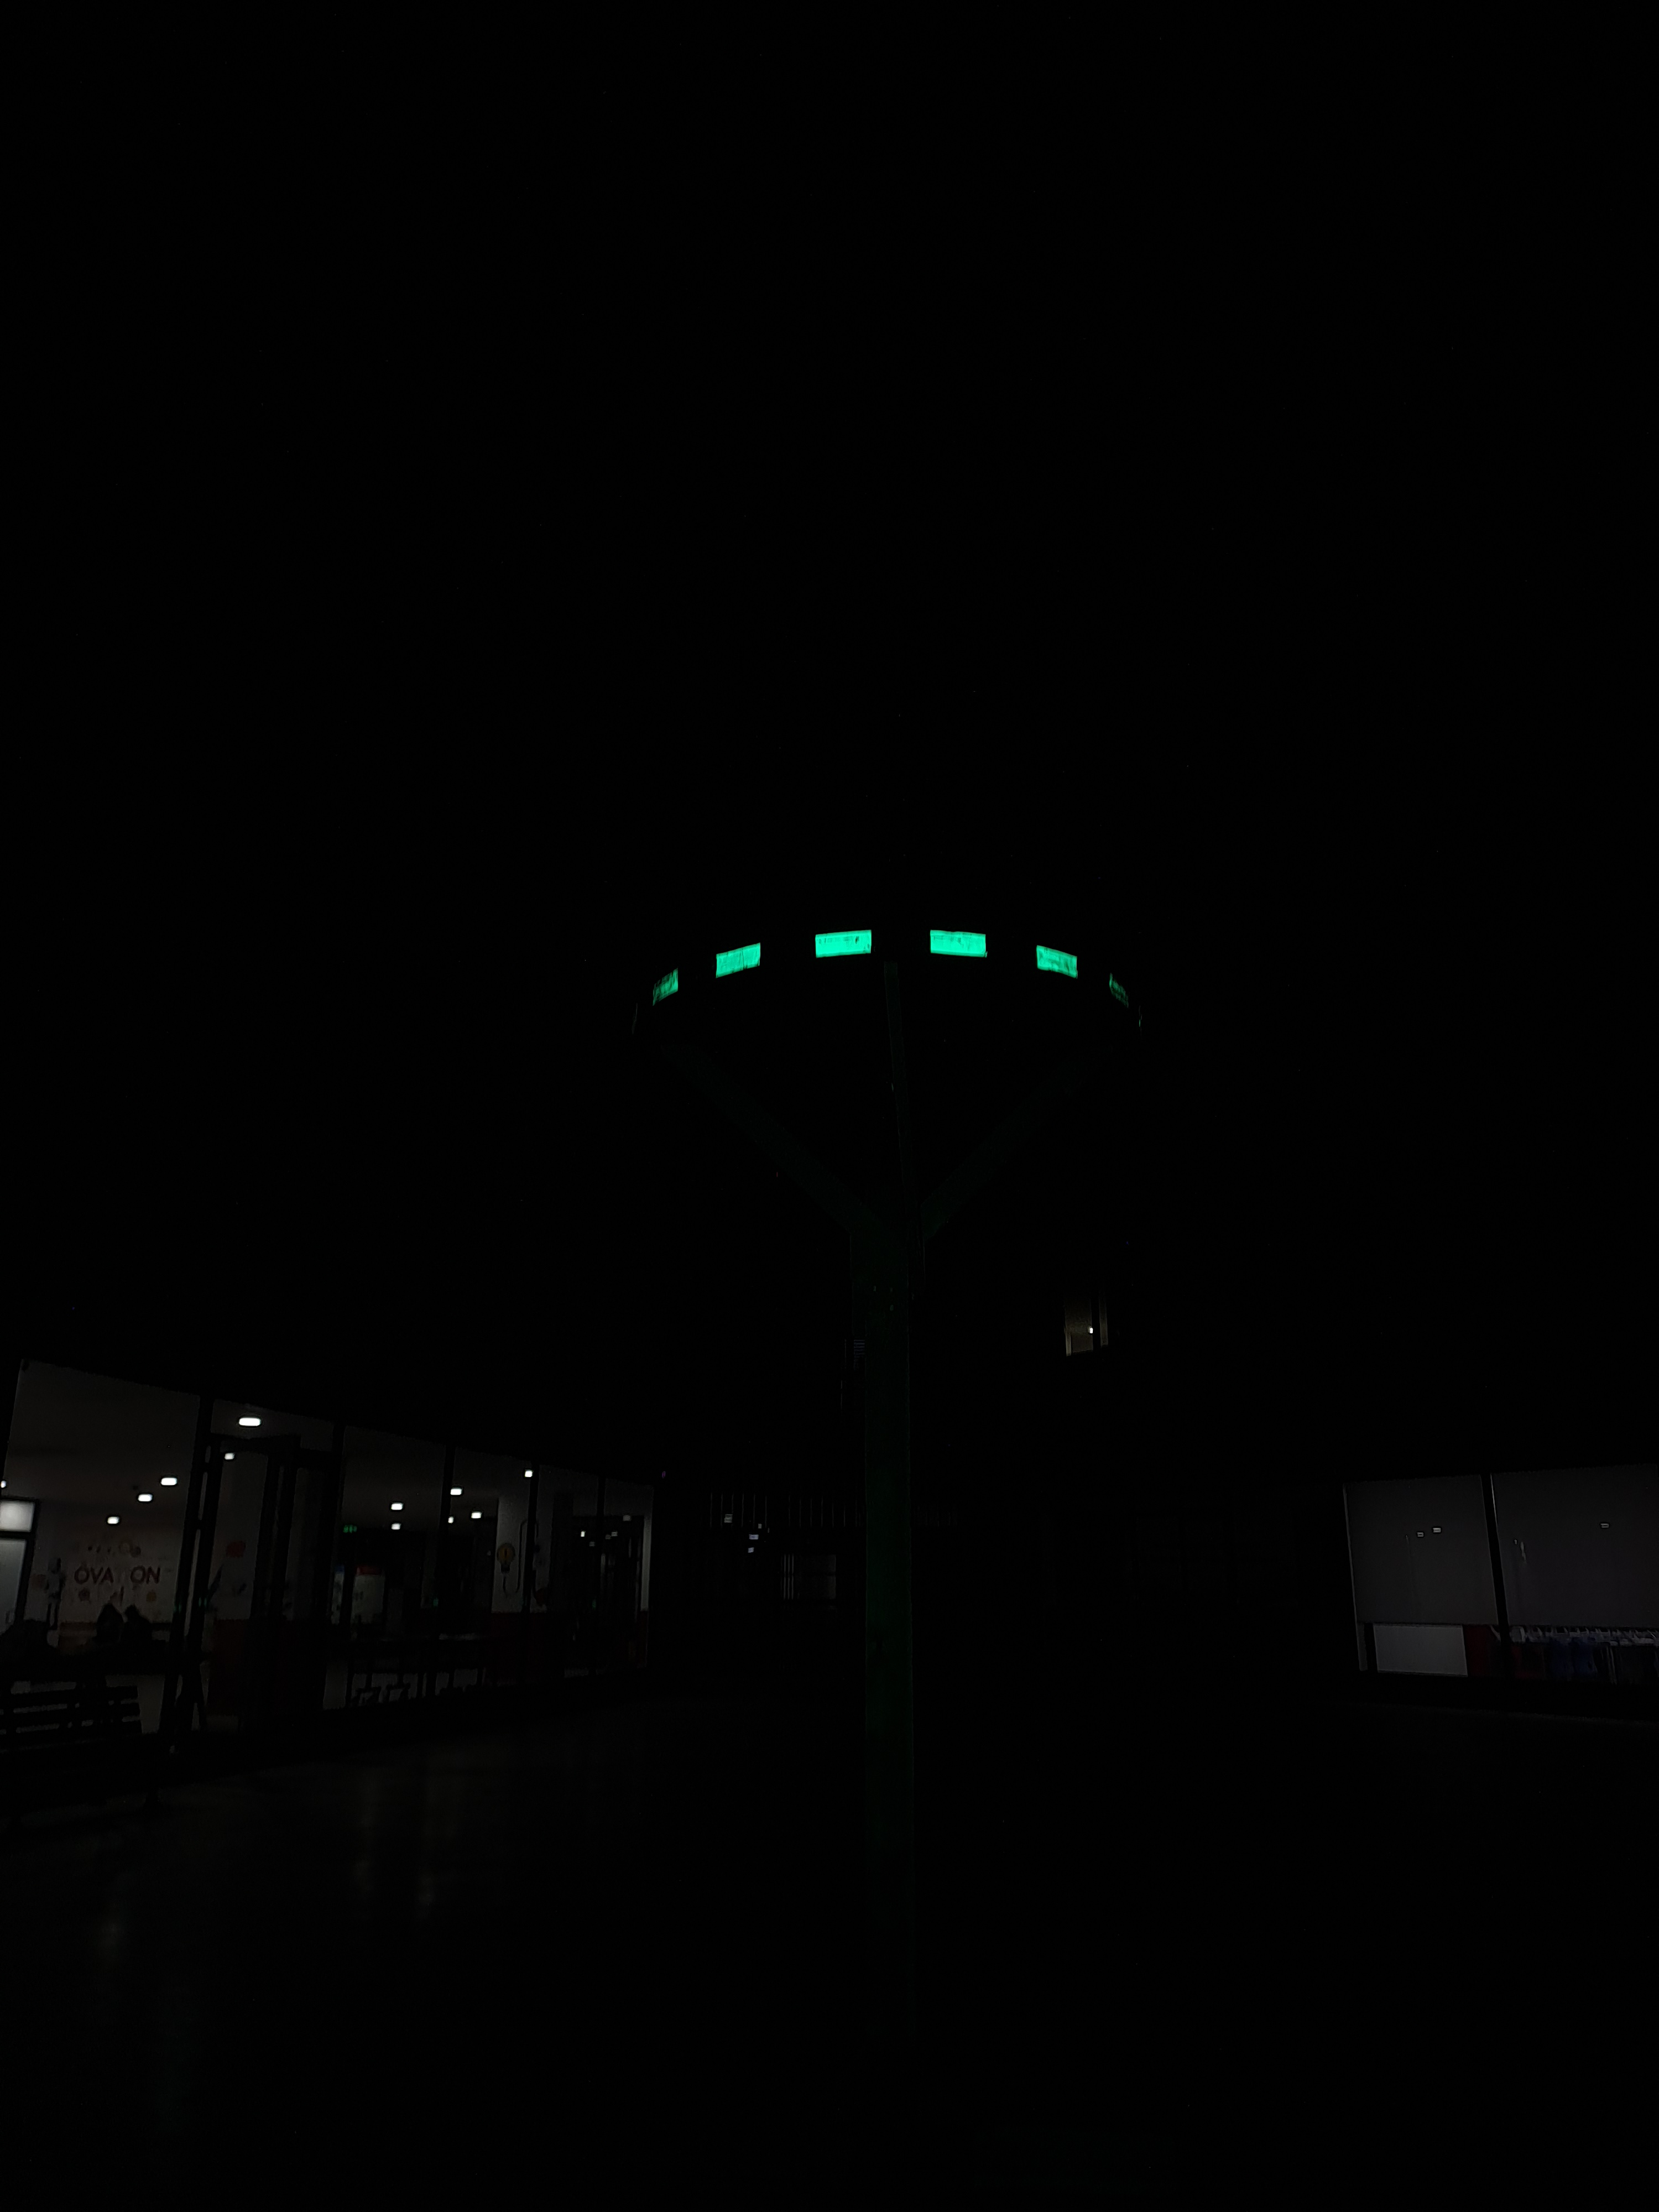hoop: (650, 914, 1086, 1012)
